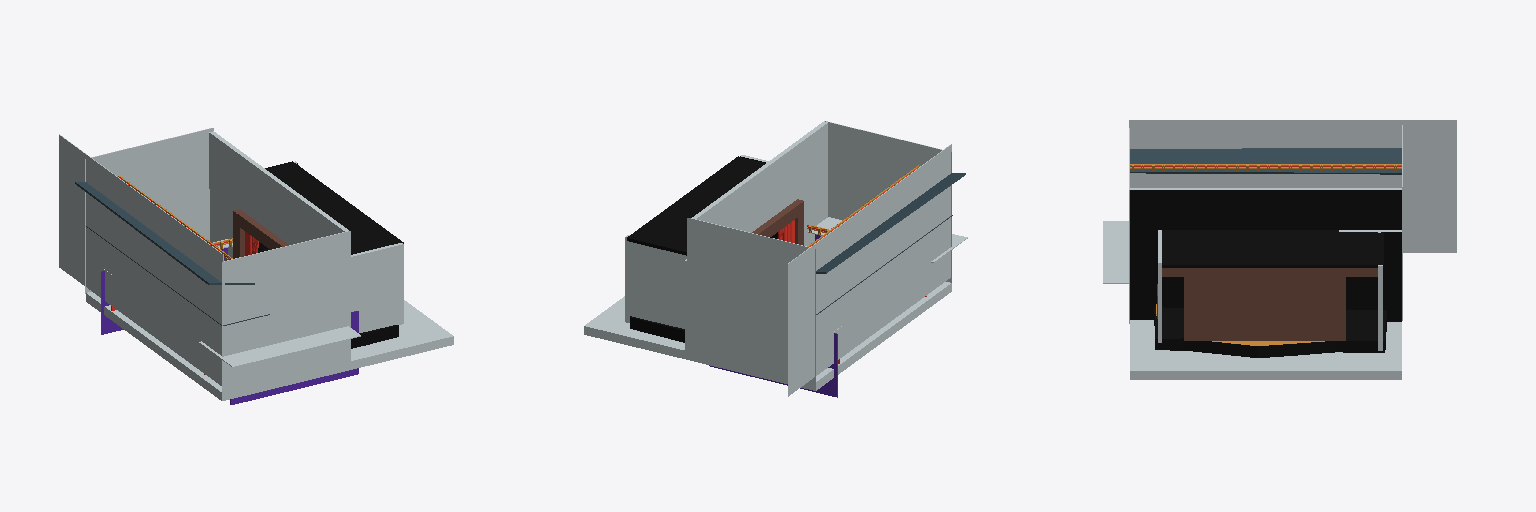
The picture shows the model from 3 angles: view 1: azimuth 30°, elevation 25°; view 2: azimuth 150°, elevation 25°; view 3: azimuth 270°, elevation 25°; orthographic projection.
Parts seen in each view (by area): view 1: group[number redacted], group[number redacted], group[number redacted], group[number redacted], group[number redacted], group[number redacted], group[number redacted], group[number redacted], group[number redacted], group[number redacted], group[number redacted], group[number redacted] (+1 smaller); view 2: group[number redacted], group[number redacted], group[number redacted], group[number redacted], group[number redacted], group[number redacted], group[number redacted], group[number redacted], group[number redacted], group[number redacted], group[number redacted], group[number redacted]; view 3: group[number redacted], group[number redacted], group[number redacted], group[number redacted], group[number redacted], group[number redacted], group[number redacted], group[number redacted], group[number redacted], group[number redacted], group[number redacted].
Boxes of the visible parts, x1,y1,x2,y2 form: group[number redacted]: [59, 134, 223, 386]; group[number redacted]: [222, 231, 350, 395]; group[number redacted]: [85, 128, 213, 293]; group[number redacted]: [209, 131, 348, 244]; group[number redacted]: [86, 292, 453, 400]; group[number redacted]: [351, 243, 403, 332]; group[number redacted]: [265, 161, 403, 254]; group[number redacted]: [199, 326, 360, 367]; group[number redacted]: [75, 182, 254, 284]; group[number redacted]: [210, 190, 237, 257]; group[number redacted]: [230, 311, 358, 404]; group[number redacted]: [234, 209, 288, 249]; group[number redacted]: [788, 144, 951, 396]; group[number redacted]: [687, 218, 815, 382]; group[number redacted]: [692, 121, 827, 232]; group[number redacted]: [825, 121, 951, 282]; group[number redacted]: [584, 282, 951, 390]; group[number redacted]: [625, 235, 686, 328]; group[number redacted]: [627, 156, 765, 255]; group[number redacted]: [816, 173, 965, 273]; group[number redacted]: [800, 173, 827, 246]; group[number redacted]: [630, 316, 684, 342]; group[number redacted]: [752, 199, 803, 236]; group[number redacted]: [709, 333, 837, 397]; group[number redacted]: [1129, 120, 1456, 252]; group[number redacted]: [1130, 188, 1401, 245]; group[number redacted]: [1184, 277, 1345, 340]; group[number redacted]: [1130, 320, 1401, 379]; group[number redacted]: [1162, 230, 1383, 267]; group[number redacted]: [1130, 148, 1401, 174]; group[number redacted]: [1154, 307, 1386, 357]; group[number redacted]: [1339, 230, 1401, 321]; group[number redacted]: [1130, 246, 1183, 319]; group[number redacted]: [1162, 268, 1377, 276]; group[number redacted]: [1103, 221, 1128, 283].
Size of the model in its own units: 7.07 by 4.58 by 8.81.